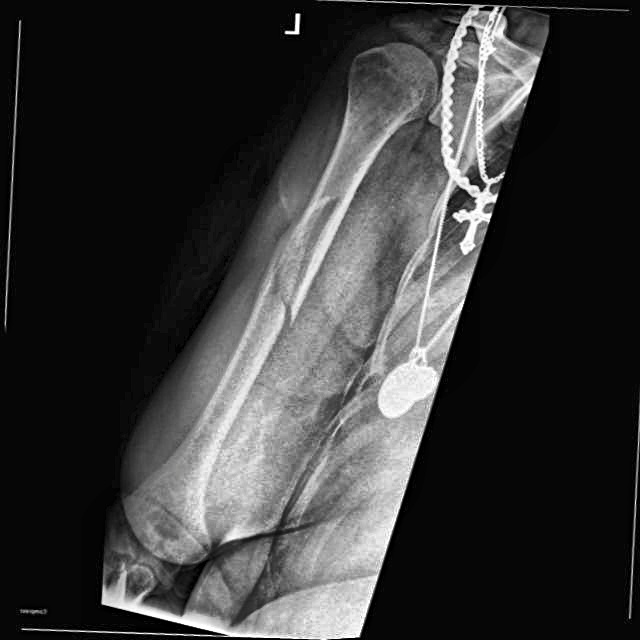Spiral: (239, 210, 322, 346)
